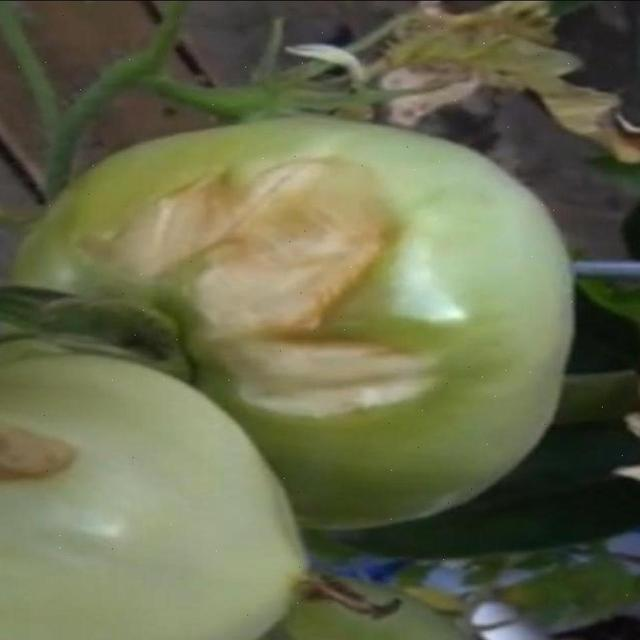Sunscald Fruit: (31, 68, 240, 301)
